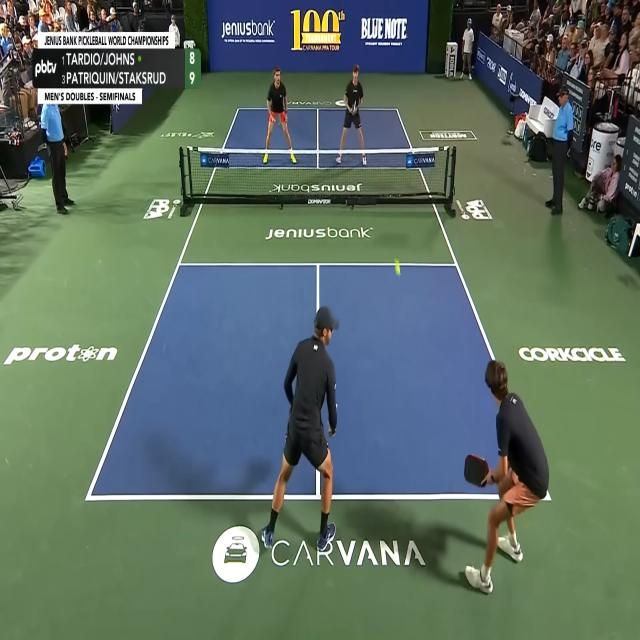ball: (394, 258, 402, 277)
